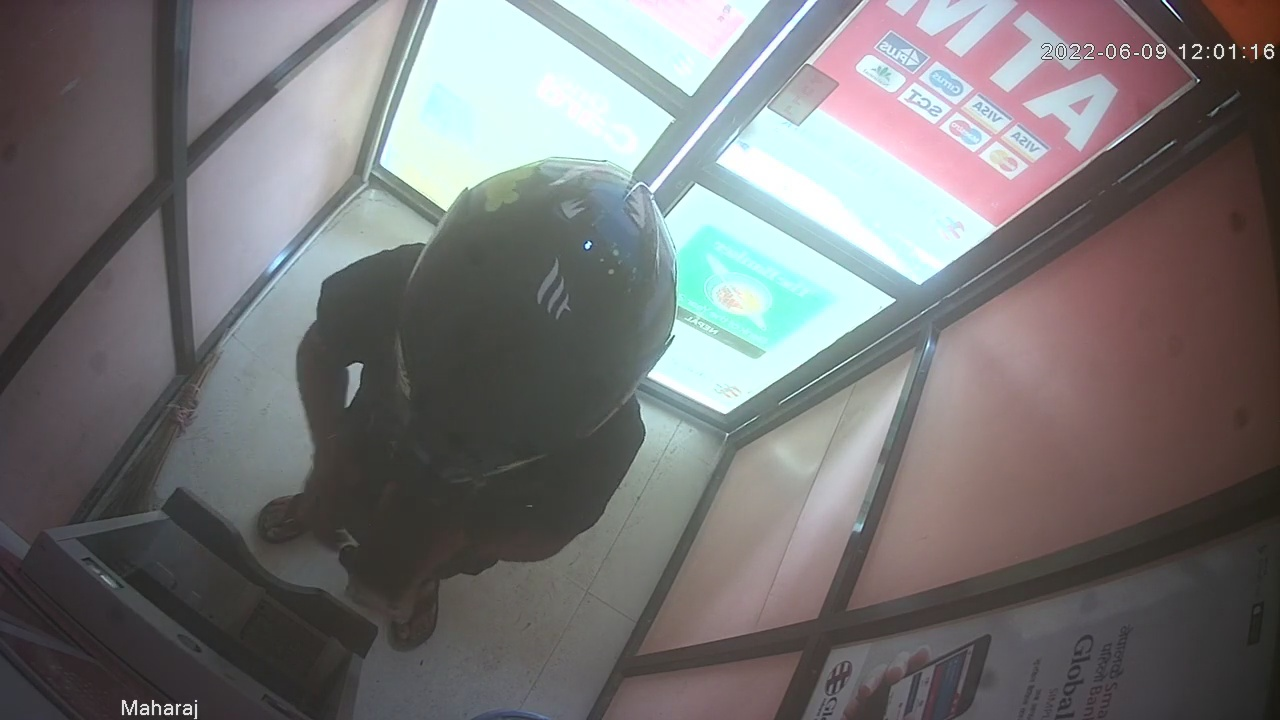helmet: (385, 155, 677, 487)
person: (254, 157, 679, 651)
